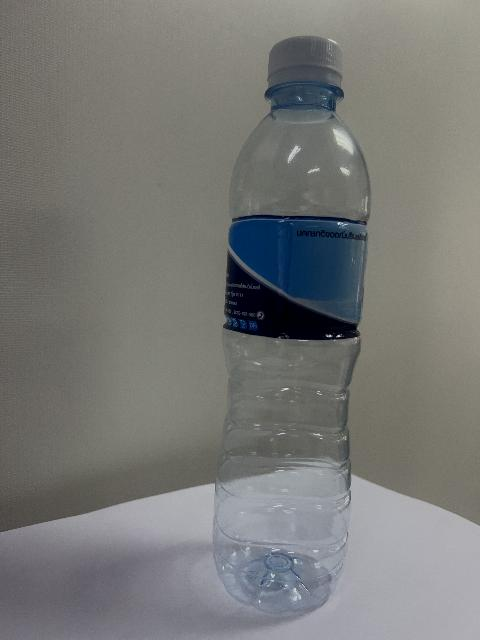bottle: (213, 37, 368, 612)
